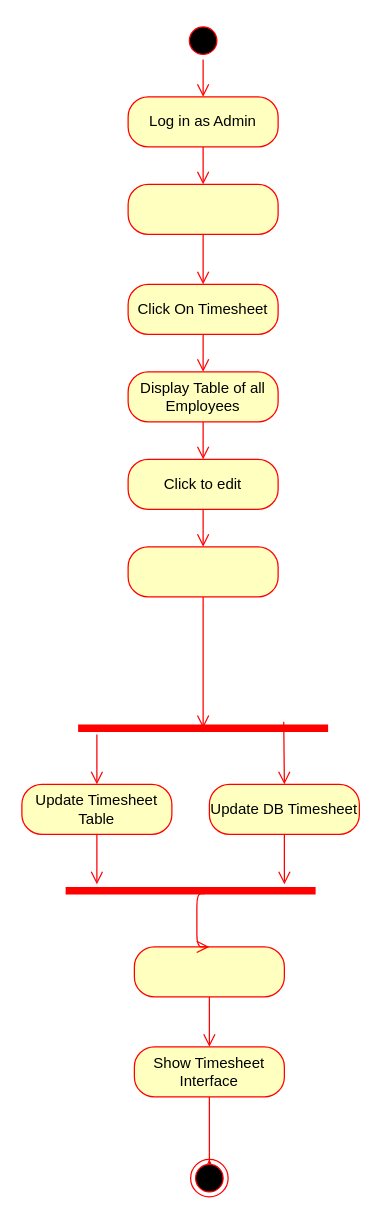
Image size: 381x1219. Some labels were removed from this diagram. Each missing label, with the centre of its shape:
"Complete the filling form" goes at (x=202, y=571).
"Go to Dashboard" goes at (x=202, y=208).
"Save changes" goes at (x=208, y=971).
